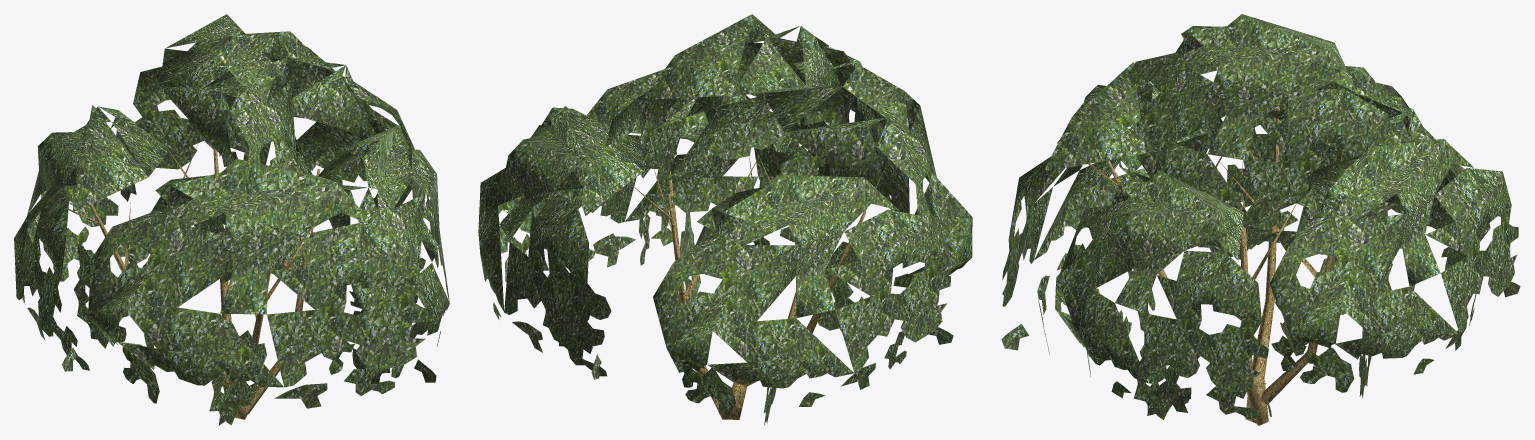
The model's file is OliveTree2.dae.
3 views of the same model, side by side, from view 1: azimuth 30°, elevation 25°; view 2: azimuth 150°, elevation 25°; view 3: azimuth 270°, elevation 25° (orthographic). The views are drawn at different scales.
Parts seen in each view (by area): view 1: Canopy-Third-Face-02_1_4, Canopy-Third-Face-02_1_5, Canopy-Third-Face-02_1_3, Canopy-Third-Face-02_1_1, Canopy-Third-Face-02_1_2, Foliage-Face-01_1_4, Foliage-Face-01_1_3, Branch-06_1_4, Branch-06_1_3, Branch-06_1_1, Foliage-Face-01_1_1, Branch-06_1_2 (+1 smaller); view 2: Canopy-Third-Face-02_1_3, Canopy-Third-Face-02_1_1, Canopy-Third-Face-02_1_5, Canopy-Third-Face-02_1_4, Canopy-Third-Face-02_1_2, Foliage-Face-01_1_5, Foliage-Face-01_1_4, Foliage-Face-01_1_2, Branch-06_1_2, Branch-06_1_3; view 3: Canopy-Third-Face-02_1_5, Canopy-Third-Face-02_1_1, Canopy-Third-Face-02_1_2, Canopy-Third-Face-02_1_4, Canopy-Third-Face-02_1_3, Foliage-Face-01_1_2, Branch-06_1_3, Foliage-Face-01_1_1, Branch-06_1_4, Branch-06_1_2.
Part boxes in pixels (<box>): Canopy-Third-Face-02_1_4: <box>88,158,436,412</box>; Canopy-Third-Face-02_1_5: <box>120,31,414,209</box>; Canopy-Third-Face-02_1_3: <box>14,105,169,371</box>; Canopy-Third-Face-02_1_1: <box>159,14,312,269</box>; Canopy-Third-Face-02_1_2: <box>318,125,449,378</box>; Foliage-Face-01_1_4: <box>209,322,266,425</box>; Foliage-Face-01_1_3: <box>74,243,128,348</box>; Branch-06_1_4: <box>245,141,360,413</box>; Branch-06_1_3: <box>38,195,229,384</box>; Branch-06_1_1: <box>226,227,314,389</box>; Foliage-Face-01_1_1: <box>194,212,233,283</box>; Branch-06_1_2: <box>160,138,231,322</box>; Canopy-Third-Face-02_1_3: <box>653,175,953,415</box>; Canopy-Third-Face-02_1_1: <box>593,14,857,265</box>; Canopy-Third-Face-02_1_5: <box>478,106,643,379</box>; Canopy-Third-Face-02_1_4: <box>765,46,972,305</box>; Canopy-Third-Face-02_1_2: <box>543,69,797,270</box>; Foliage-Face-01_1_5: <box>541,250,611,346</box>; Foliage-Face-01_1_4: <box>818,241,863,331</box>; Foliage-Face-01_1_2: <box>680,202,700,306</box>; Branch-06_1_2: <box>630,183,741,407</box>; Branch-06_1_3: <box>737,165,900,386</box>; Canopy-Third-Face-02_1_5: <box>1269,138,1520,392</box>; Canopy-Third-Face-02_1_1: <box>1116,14,1396,250</box>; Canopy-Third-Face-02_1_2: <box>1055,170,1271,419</box>; Canopy-Third-Face-02_1_4: <box>1001,62,1226,353</box>; Canopy-Third-Face-02_1_3: <box>1238,66,1490,290</box>; Foliage-Face-01_1_2: <box>1133,329,1199,419</box>; Branch-06_1_3: <box>1249,104,1285,377</box>; Foliage-Face-01_1_1: <box>1226,164,1271,259</box>; Branch-06_1_4: <box>1240,203,1296,425</box>; Branch-06_1_2: <box>1260,149,1342,403</box>.
Bounding box in the file's own units: 149 × 162 × 138.
Materials: 2 (2 with a texture image).
